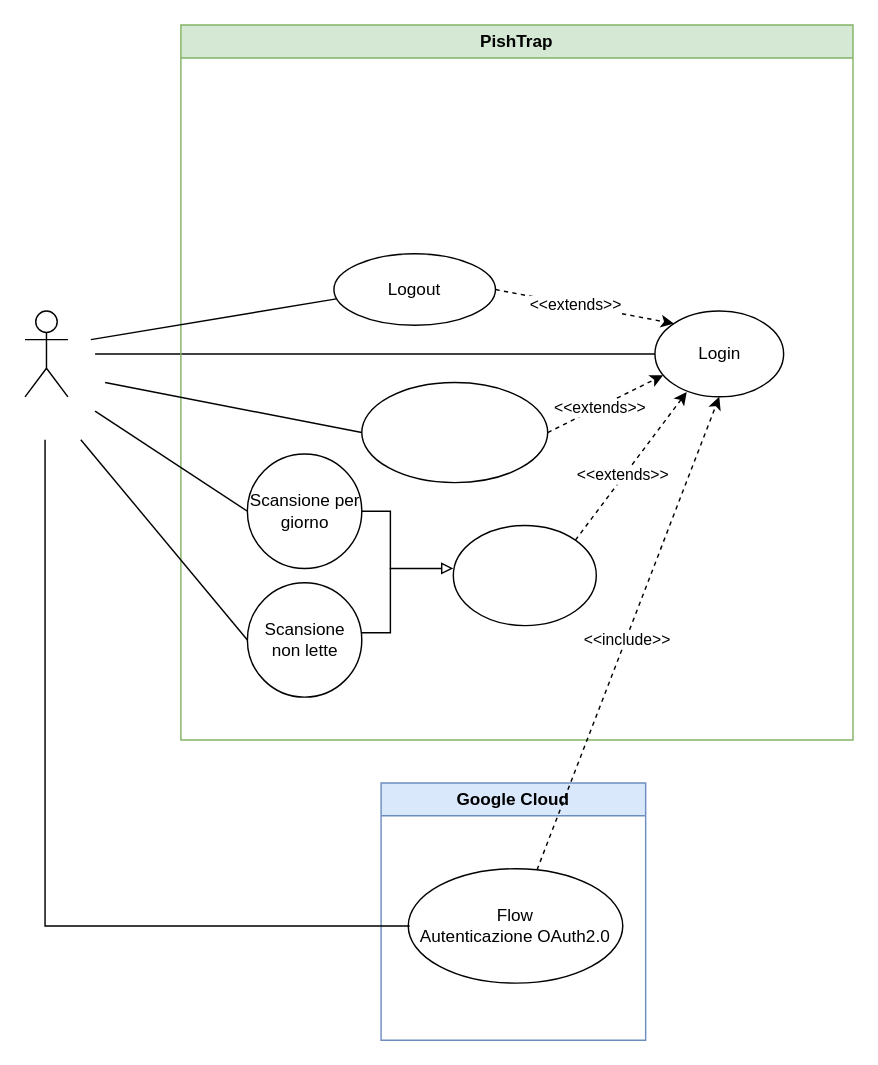
Image size: 878x1065. Some labels were removed from this diagram. Each missing label, with the centre of its shape:
"Scansione delle email" goes at (524,575).
"User" goes at (46,353).
"Visualizzazione report" goes at (454,432).
